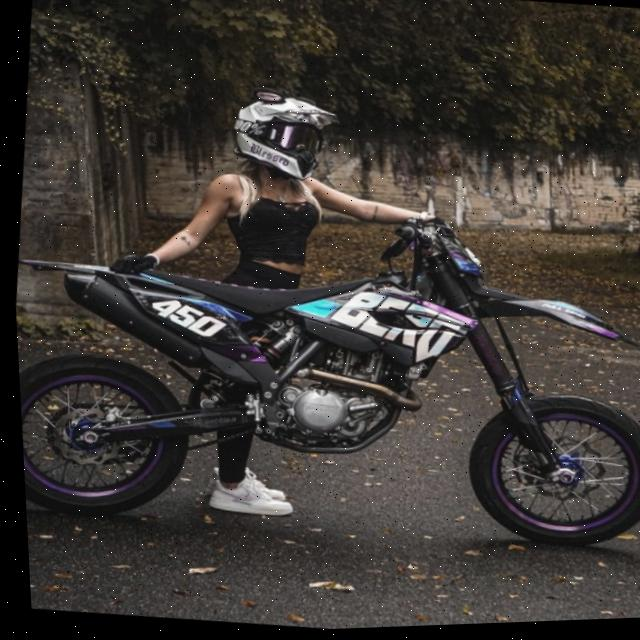illegal_helmet: (218, 82, 347, 193)
